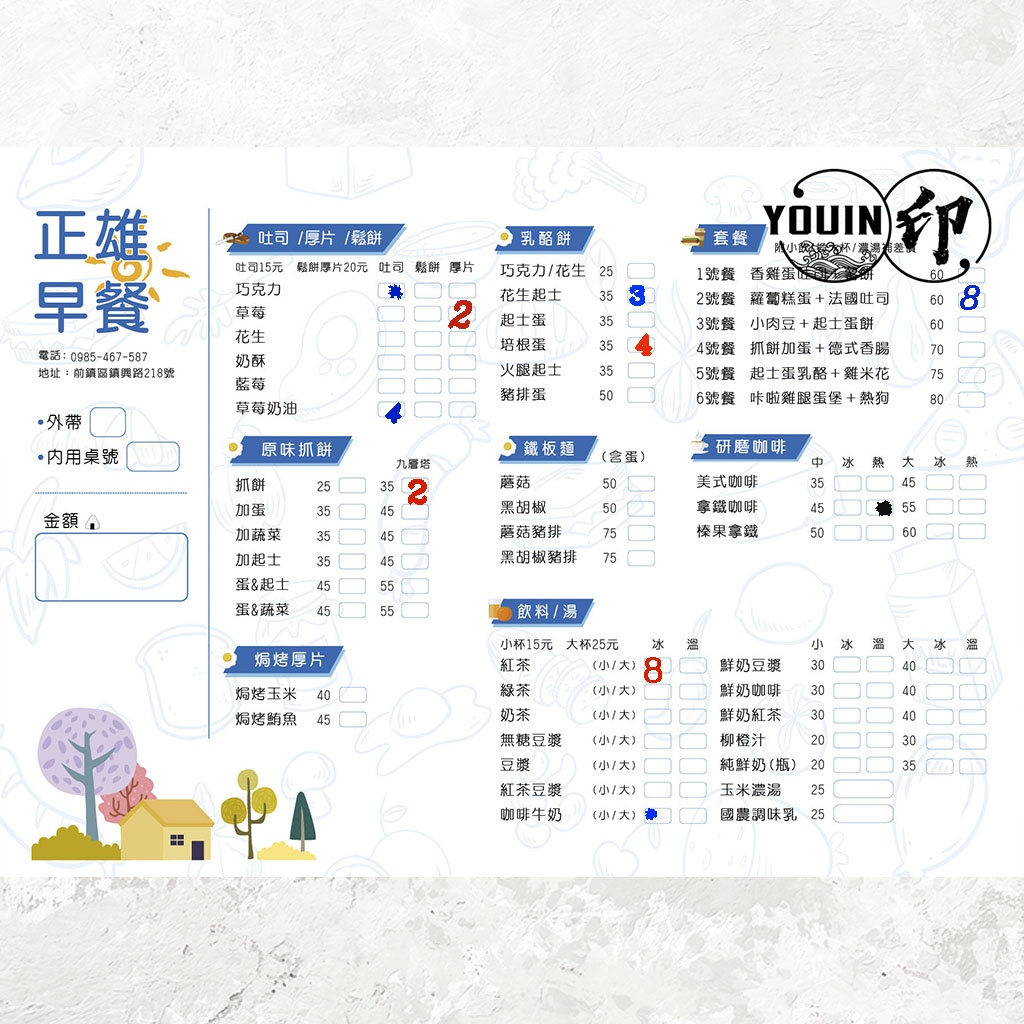marked_circle: (644, 807, 670, 821), (377, 282, 403, 296), (866, 499, 892, 513)
marked_number_2: (448, 305, 474, 319), (401, 478, 427, 492)
marked_number_3: (628, 288, 654, 302)
marked_number_4: (627, 337, 653, 351), (377, 401, 403, 415)
marked_number_8: (958, 293, 984, 307), (644, 657, 670, 671)
